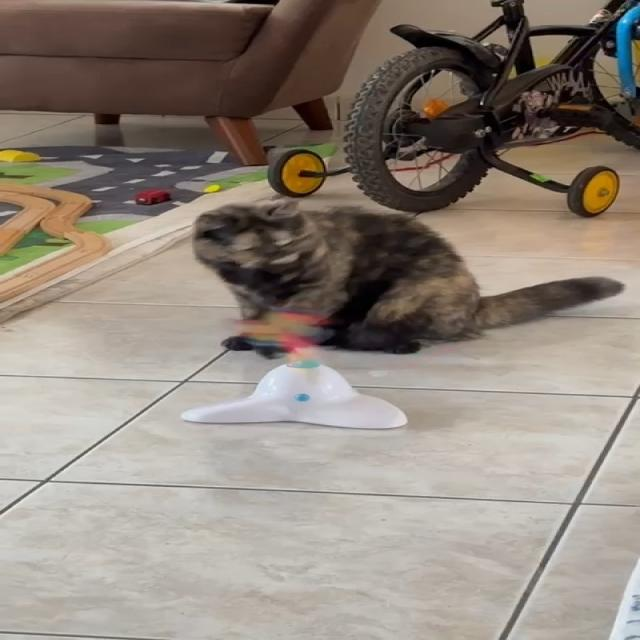authorized: (190, 194, 626, 356)
